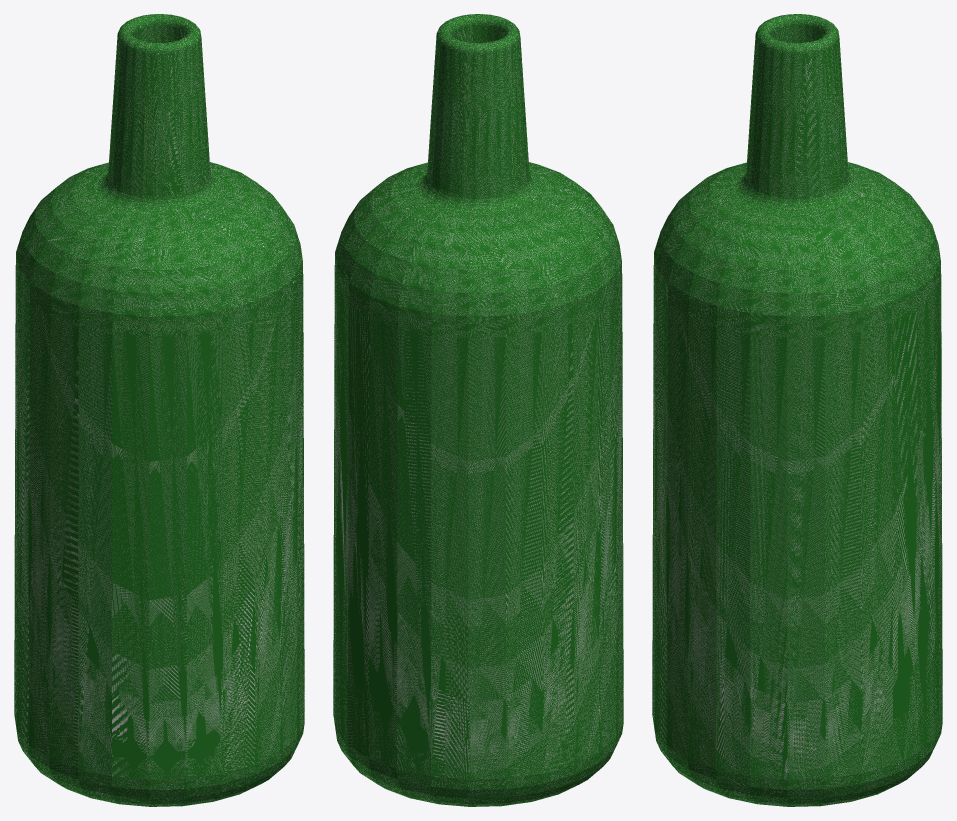
3 renders of one model, left to right at view 1: azimuth 30°, elevation 25°; view 2: azimuth 150°, elevation 25°; view 3: azimuth 270°, elevation 25°, orthographic.
Visible parts, largest first — view 1: mesh1_mesh1-geometry; view 2: mesh1_mesh1-geometry; view 3: mesh1_mesh1-geometry.
Boxes of the visible parts, x1=… form: mesh1_mesh1-geometry: x1=14, y1=14, x2=304, y2=806; mesh1_mesh1-geometry: x1=333, y1=14, x2=623, y2=806; mesh1_mesh1-geometry: x1=652, y1=14, x2=942, y2=806.
Size of the model in its own units: 0.3205 by 0.8914 by 0.3205.
